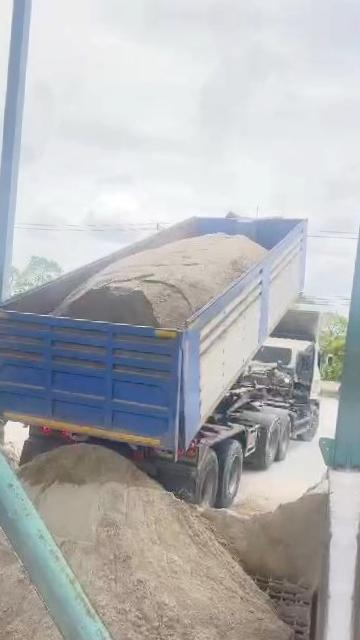sand: (20, 444, 288, 640), (55, 234, 266, 327), (203, 483, 326, 589), (0, 496, 84, 640), (0, 442, 19, 468)
